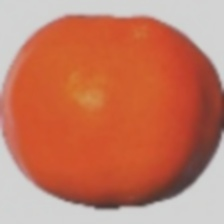tangerine: (31, 52, 176, 208)
